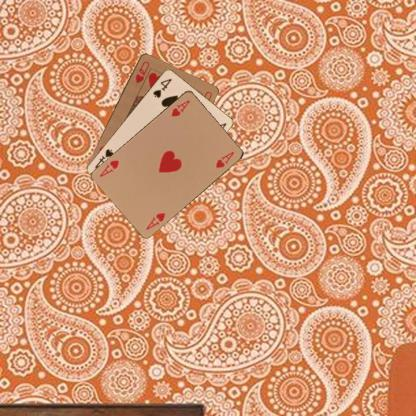4s: (150, 76, 173, 98)
Ah: (169, 97, 191, 118), (144, 210, 166, 231)
Qh: (133, 58, 150, 84)
